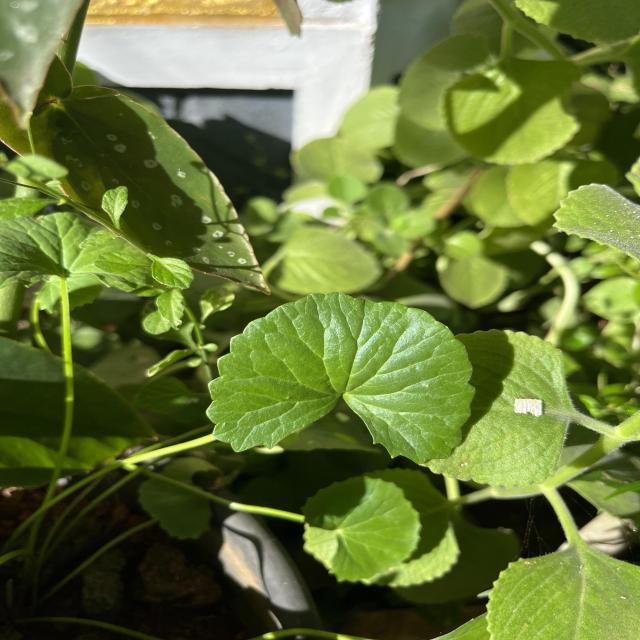Centella asiatica: (202, 288, 480, 468)
